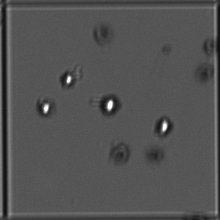Dead Cell: (93, 18, 114, 43), (109, 142, 130, 164), (146, 144, 165, 164), (195, 64, 214, 84), (204, 37, 218, 56)
Living Cell: (98, 92, 120, 117), (152, 115, 172, 138), (37, 96, 54, 118), (58, 69, 77, 88)
